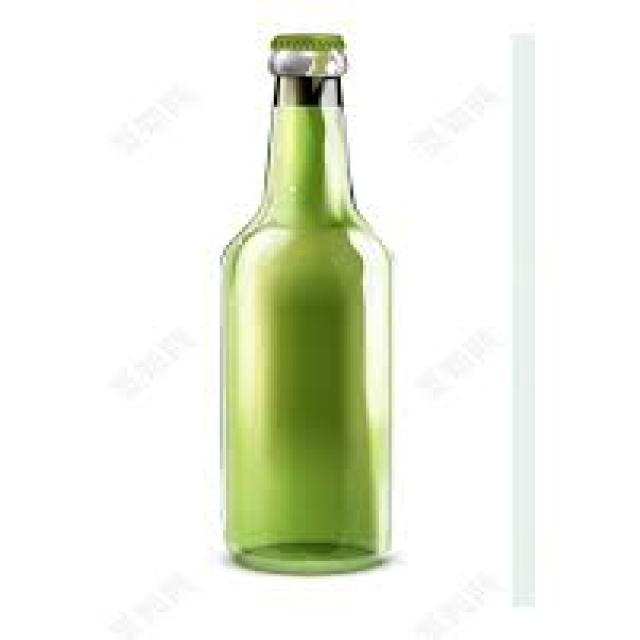glass: (214, 48, 386, 574)
metal: (268, 31, 341, 49)
